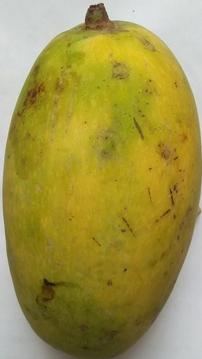PartiallyRipe: (1, 1, 202, 359)
